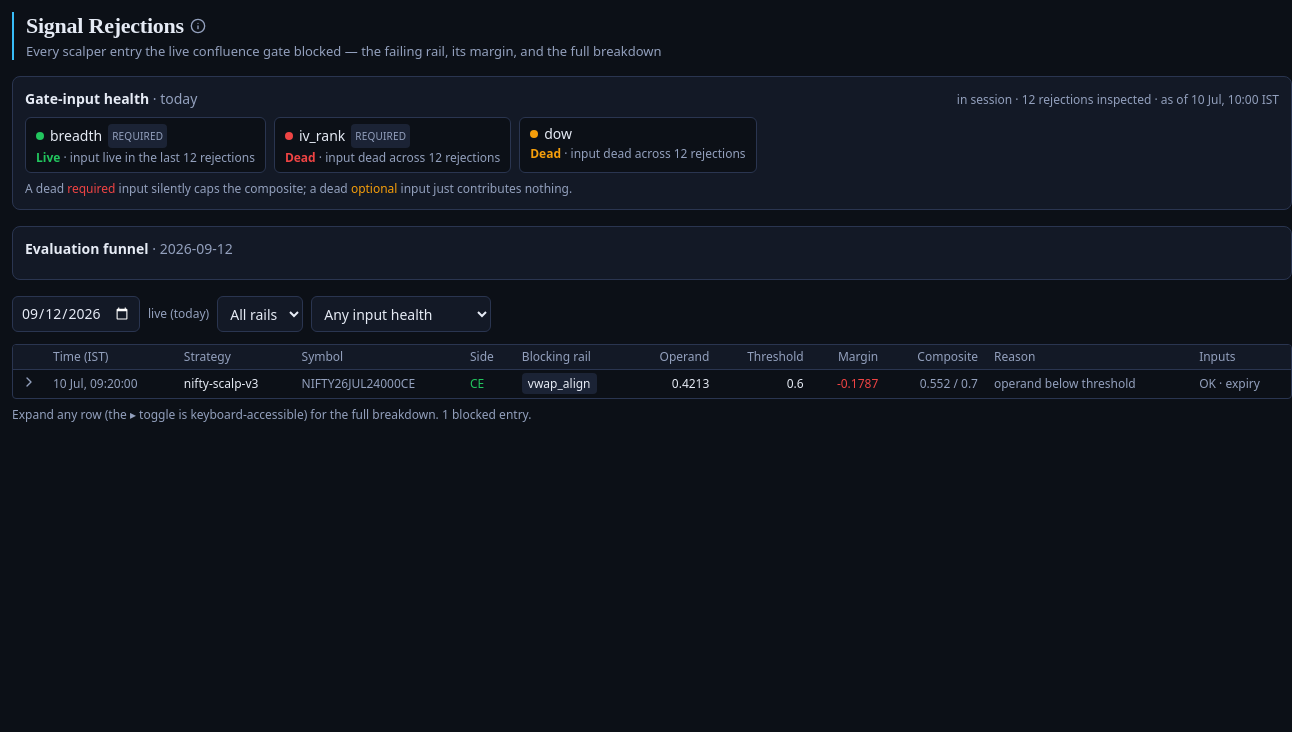
RejectionsPage main table (adopted onto DataTable) › does NOT mark a row degraded when its OI root is on ITS OWN monthly expiry (S24, by design)
Check: the text "OK · expiry" is shown, box [1199,375,1260,392]
Step 1. Click the button named "Expand details" → [29, 382], box [21,374,37,390]
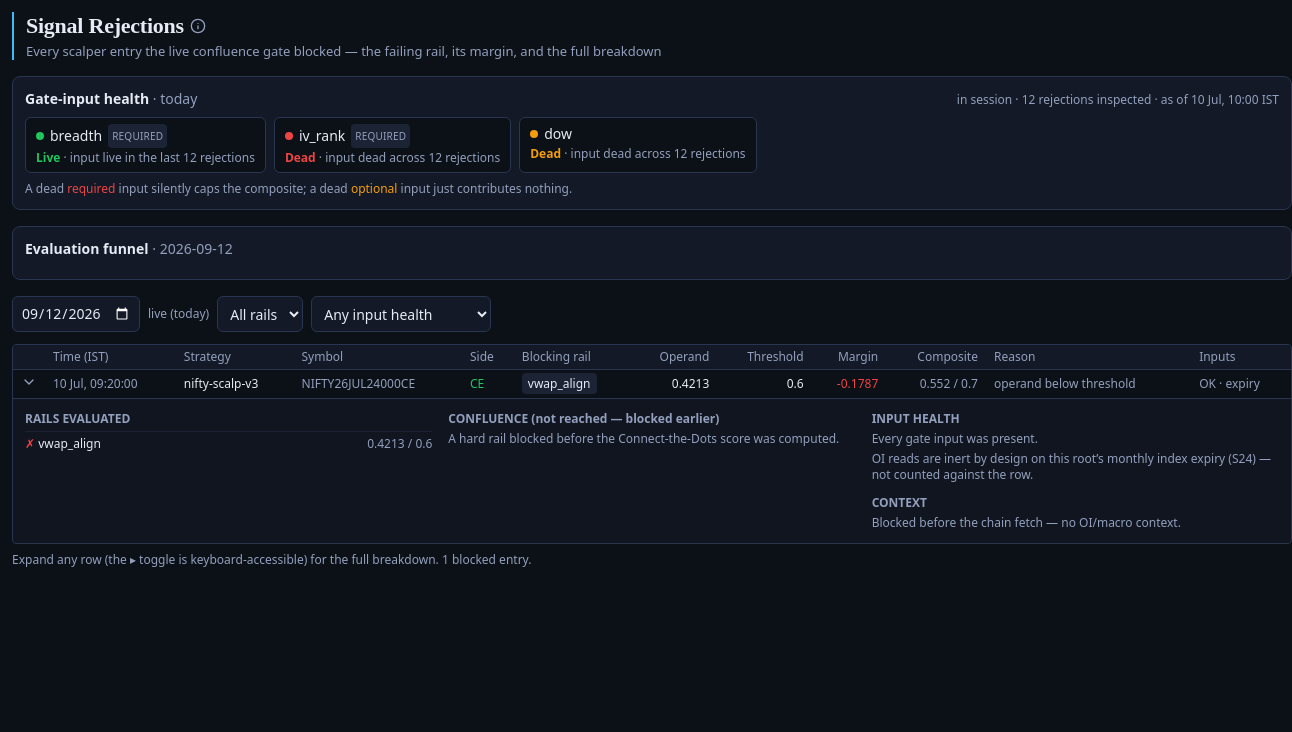
Check: the text "inert" is shown, box [872,450,974,467]
